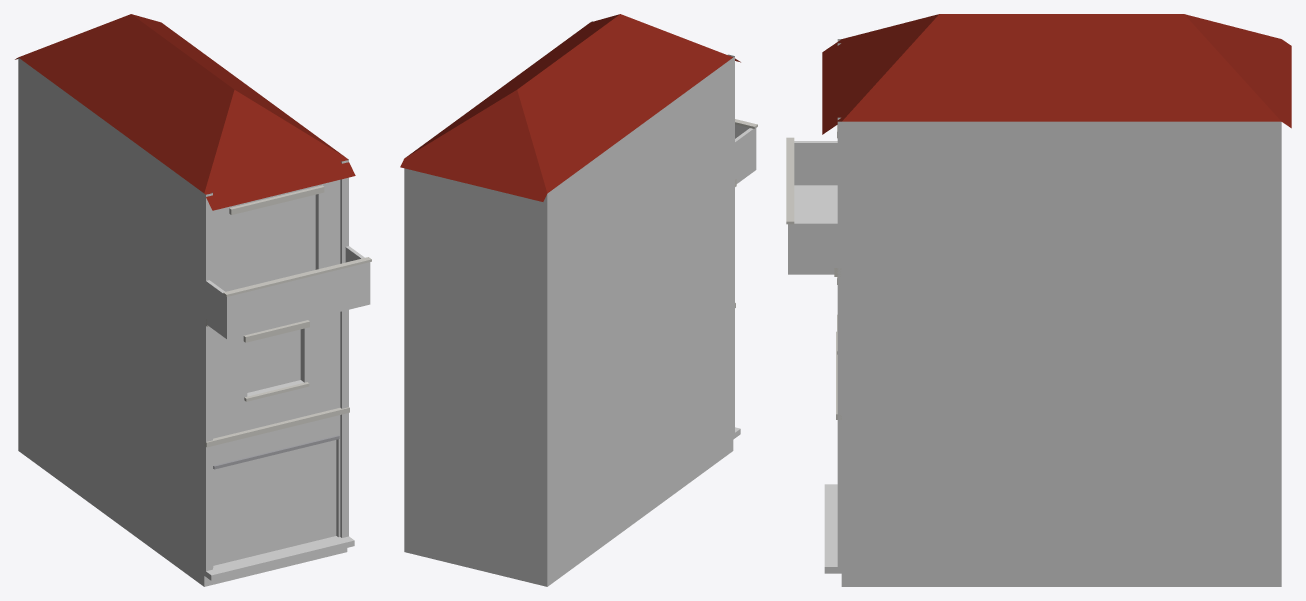
3 views of the same model, side by side, from view 1: azimuth 30°, elevation 25°; view 2: azimuth 150°, elevation 25°; view 3: azimuth 270°, elevation 25° (orthographic). The views are drawn at different scales.
Parts seen in each view (by area): view 1: TH_D09_C_05_LOD0; view 2: TH_D09_C_05_LOD0; view 3: TH_D09_C_05_LOD0.
Part boxes in pixels (x1=…): TH_D09_C_05_LOD0: x1=15, y1=14, x2=371, y2=586; TH_D09_C_05_LOD0: x1=400, y1=14, x2=757, y2=586; TH_D09_C_05_LOD0: x1=786, y1=14, x2=1291, y2=586.
Size of what is drawn, in the model's own units: 4.06 by 12 by 10.33.
